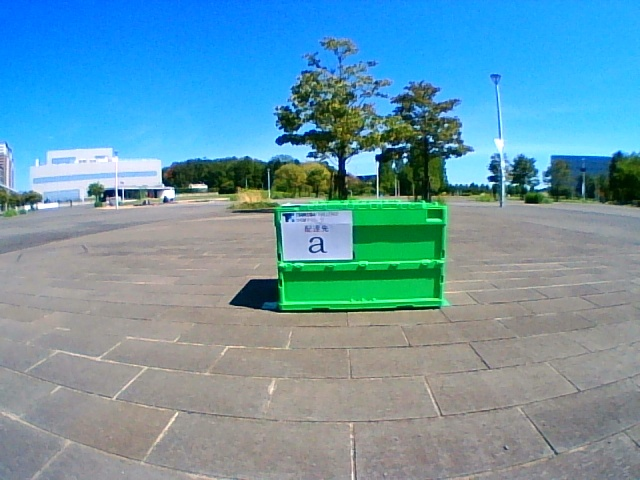green_box: (276, 200, 447, 312)
tag_a: (283, 213, 351, 260)
